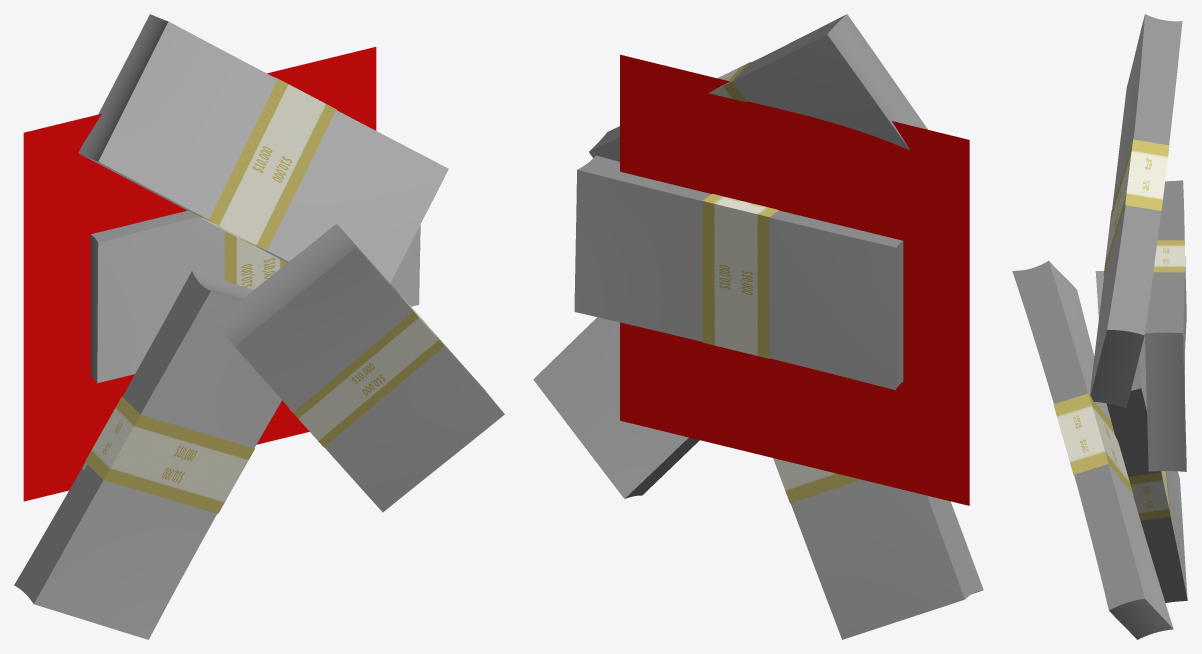
The model's file is Money.fbx.
3 renders of one model, left to right at view 1: azimuth 30°, elevation 25°; view 2: azimuth 150°, elevation 25°; view 3: azimuth 270°, elevation 25°, orthographic. The views are drawn at different scales.
Visible parts, largest first — view 1: Box003 (×3), Box005 (×4), Box007 (×3), ARMediaMarker001, Box002 (×4); view 2: ARMediaMarker001, Box002 (×4), Box005 (×3), Box003 (×3), Box007 (×2); view 3: Box007 (×4), Box003 (×4), Box002 (×4), Box005 (×4).
Boxes of the visible parts, bbox=[...] form: Box003 (×3): bbox=[78, 14, 448, 283]; Box005 (×4): bbox=[14, 271, 281, 639]; Box007 (×3): bbox=[214, 224, 504, 512]; ARMediaMarker001: bbox=[23, 47, 376, 501]; Box002 (×4): bbox=[90, 210, 420, 383]; ARMediaMarker001: bbox=[620, 54, 969, 505]; Box002 (×4): bbox=[574, 155, 903, 390]; Box005 (×3): bbox=[773, 458, 983, 639]; Box003 (×3): bbox=[589, 14, 927, 161]; Box007 (×2): bbox=[533, 317, 699, 498]; Box007 (×4): bbox=[1012, 260, 1173, 639]; Box003 (×4): bbox=[1090, 14, 1182, 408]; Box002 (×4): bbox=[1145, 180, 1186, 471]; Box005 (×4): bbox=[1095, 271, 1187, 602].
Size of the model in its own units: 103 by 134 by 35.4.
